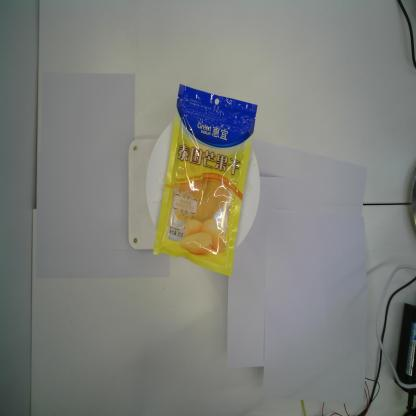Dried Fruit: (152, 84, 258, 276)
